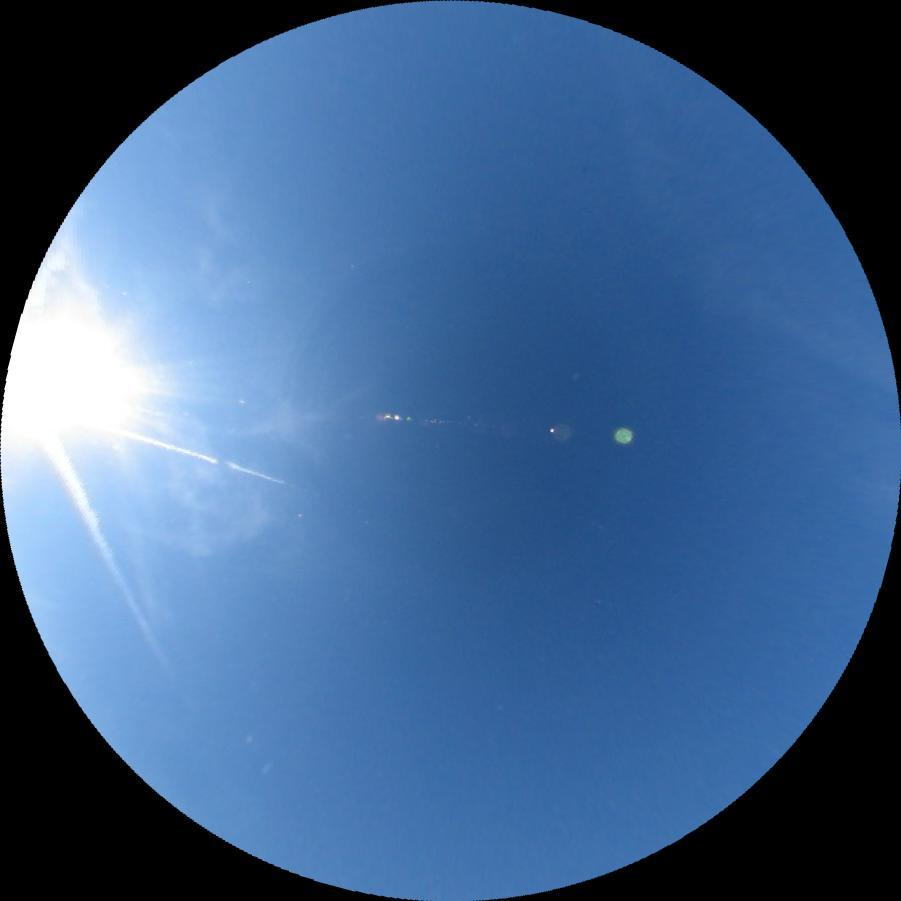contrail veryold: (36, 420, 175, 668)
parasite: (81, 418, 287, 487)
